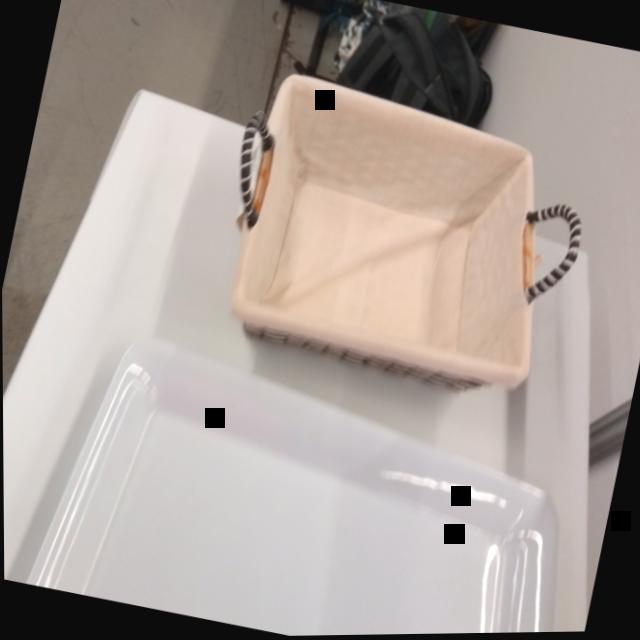basket: (198, 58, 607, 407)
tray: (18, 305, 616, 640)
